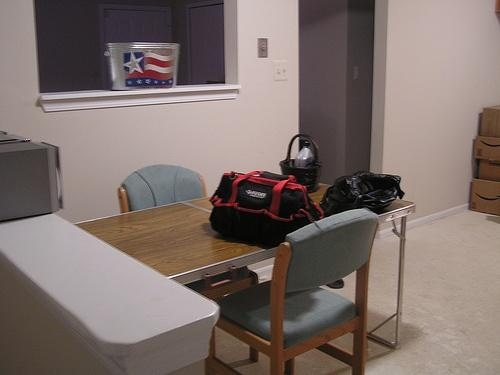chair: (206, 210, 388, 374), (116, 165, 263, 364)
diningtable: (71, 177, 419, 373)
